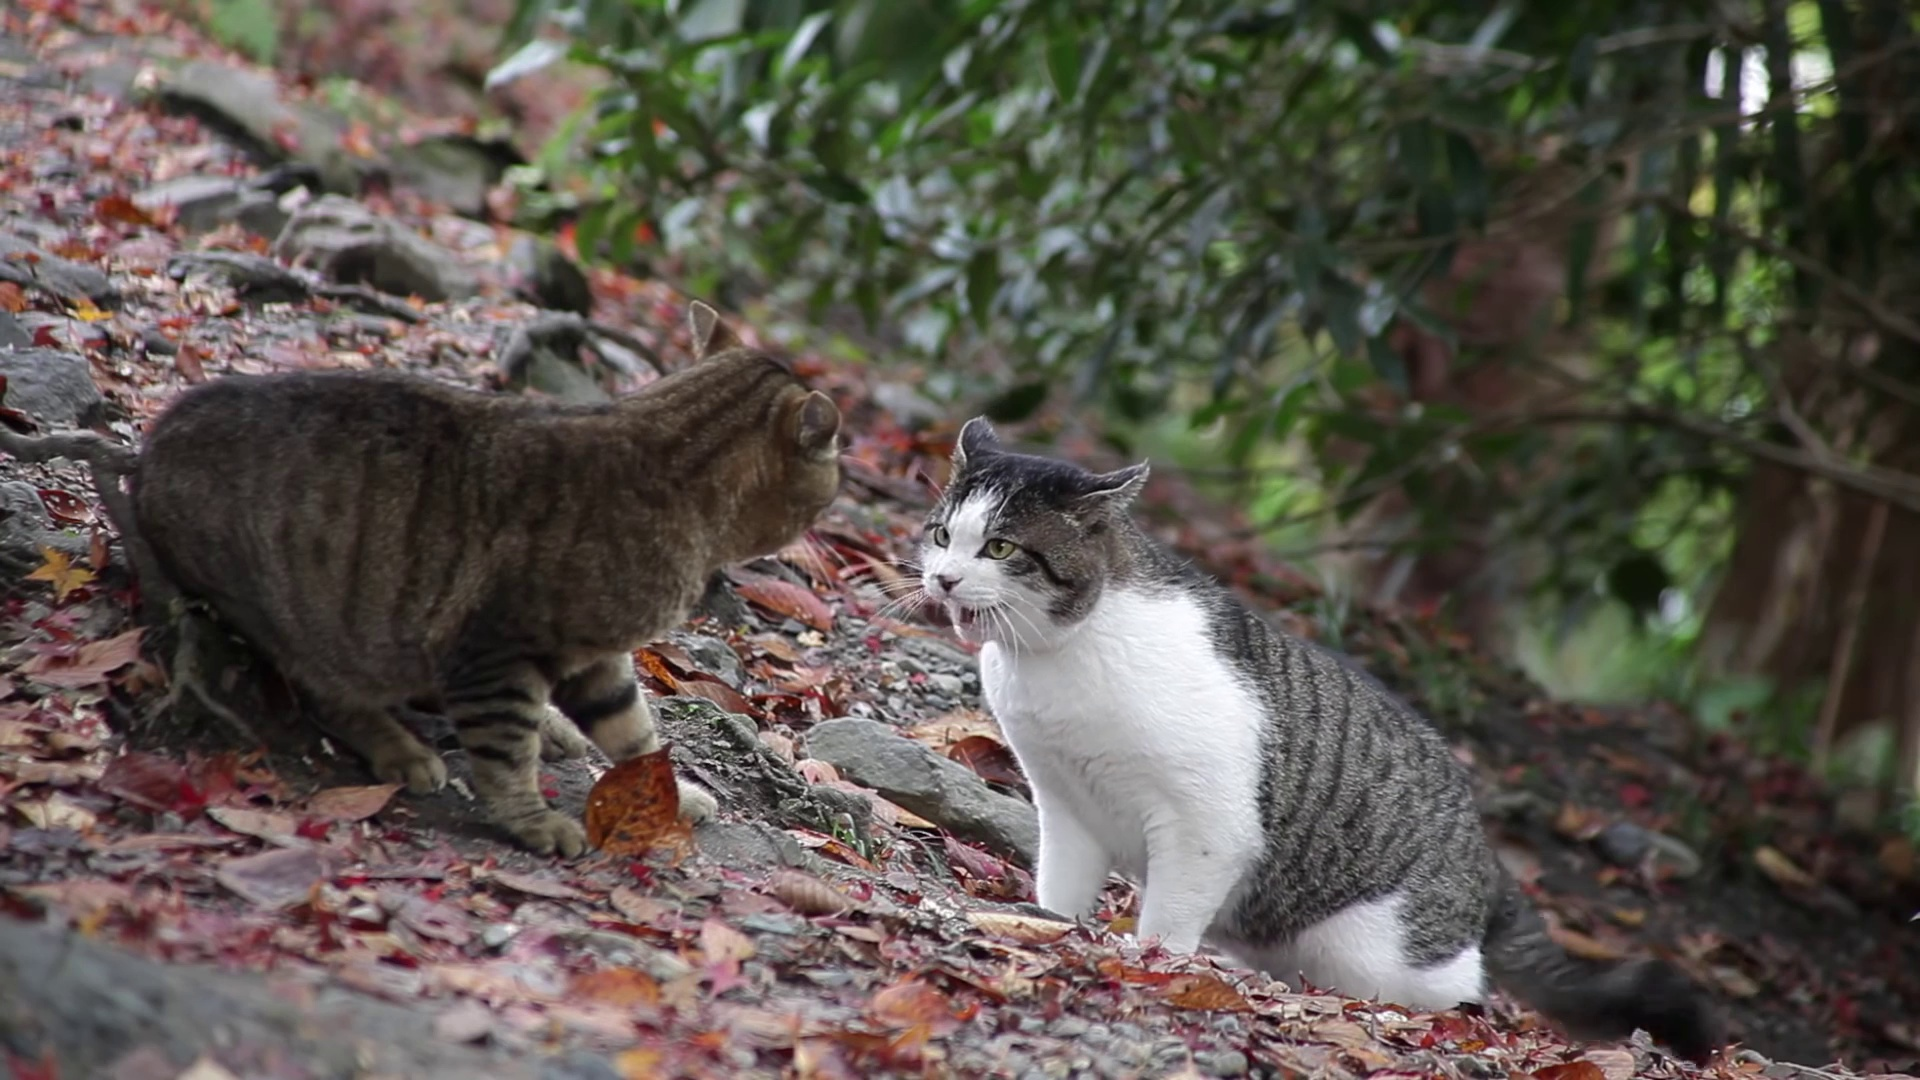black-white: (916, 415, 1486, 1009)
pure black: (135, 295, 839, 860)
